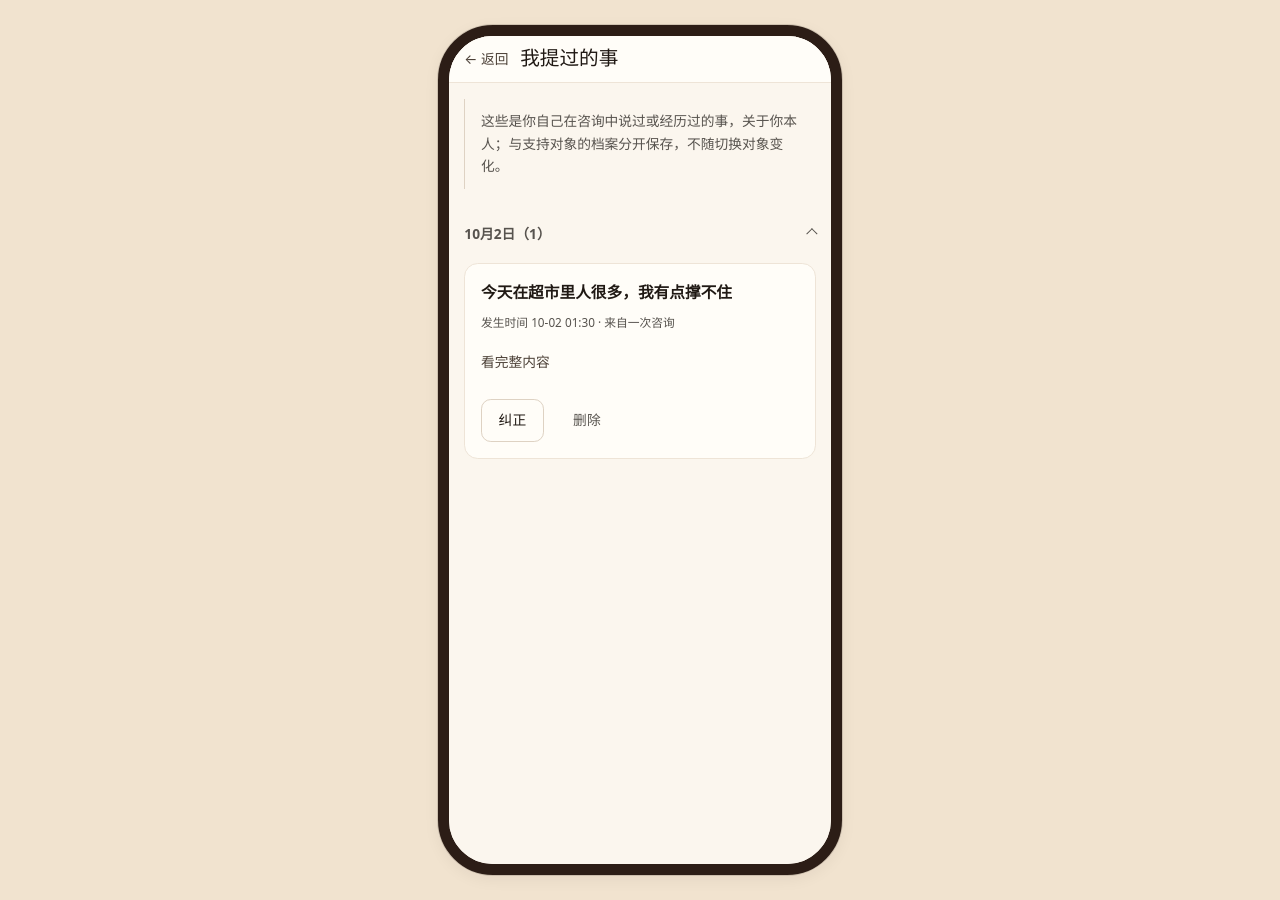
it: 记忆页 · 删除 › P0 取消不调删除端点；确认才调，并立即从列表移除
Expected: the text "今天在超市里人很多，我有点撑不住" is shown, [481, 281, 732, 303]
Click the button "删除": x=587, y=421 [556, 399, 618, 442]
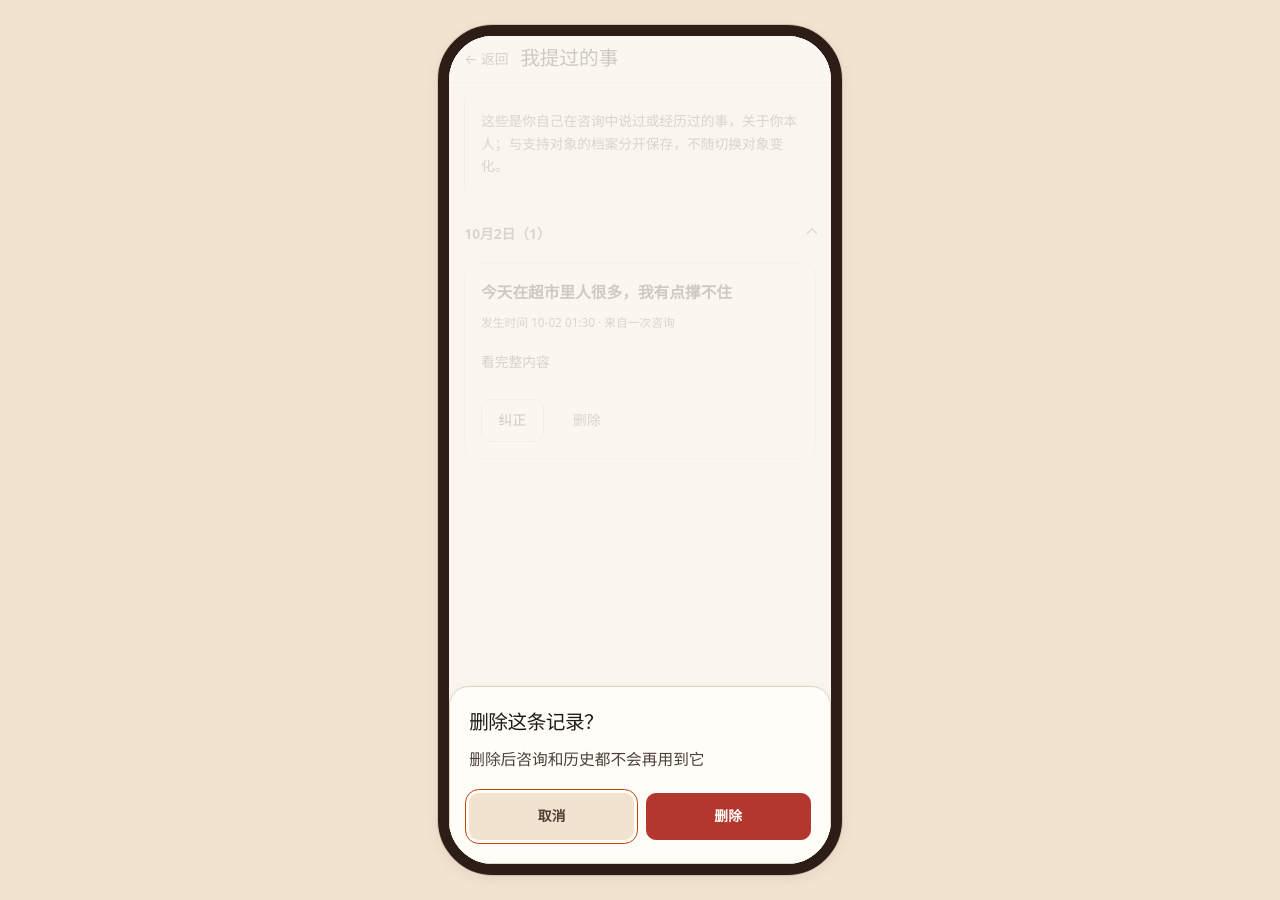
Click the button "取消": x=552, y=816 [469, 792, 634, 840]
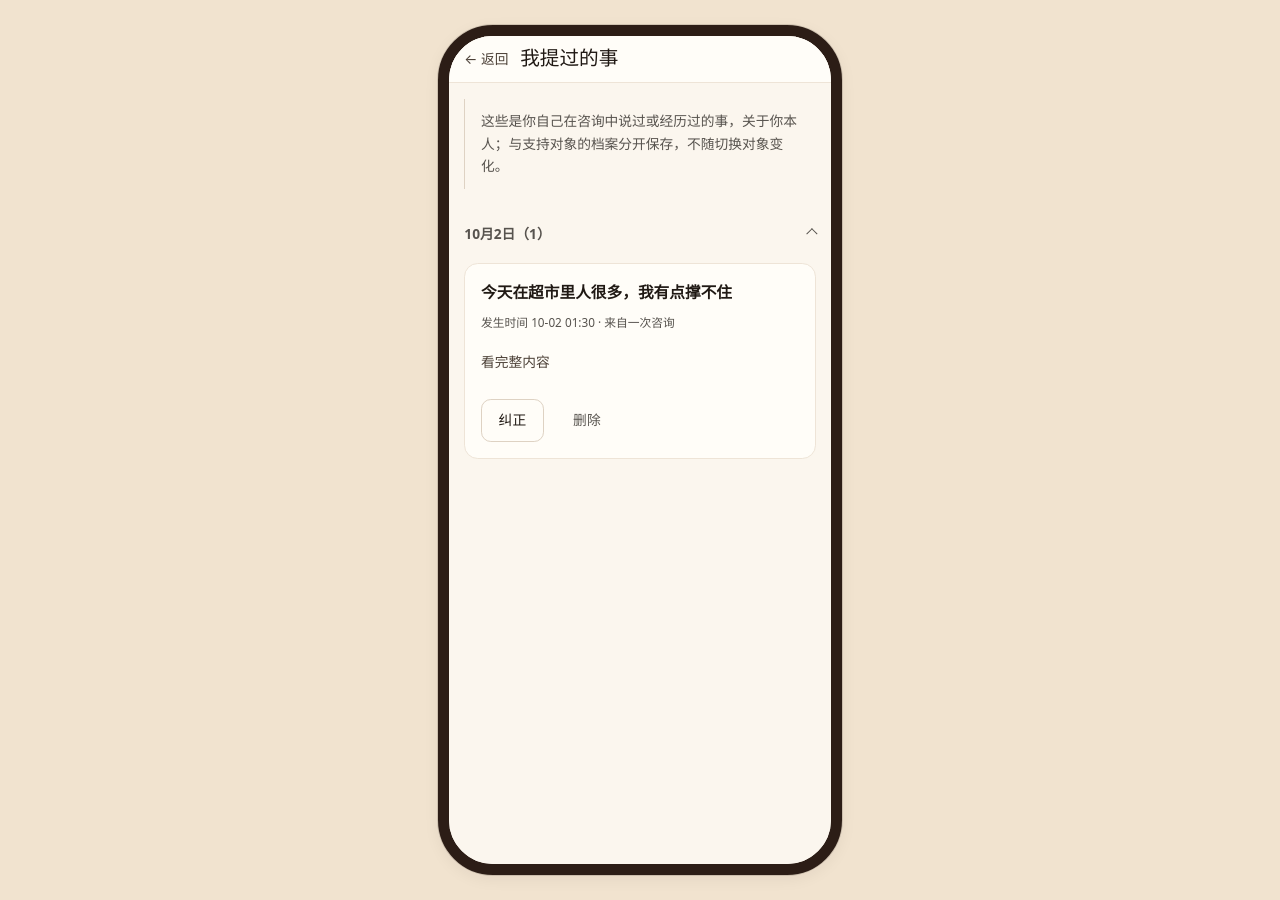
Expected: the dialog is gone
Click the button "删除": x=587, y=421 [556, 399, 618, 442]
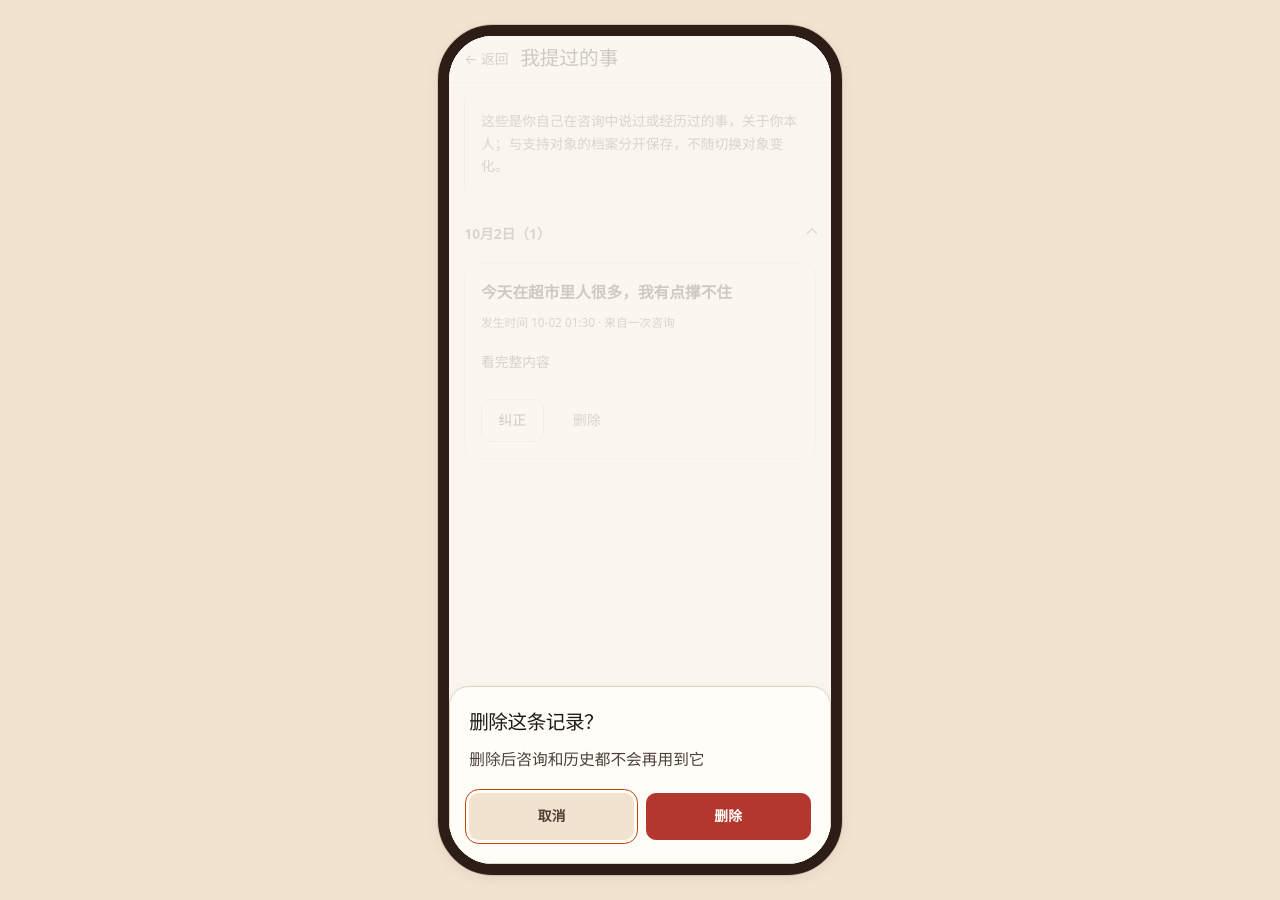
Click the button "删除": x=728, y=816 [646, 792, 811, 840]
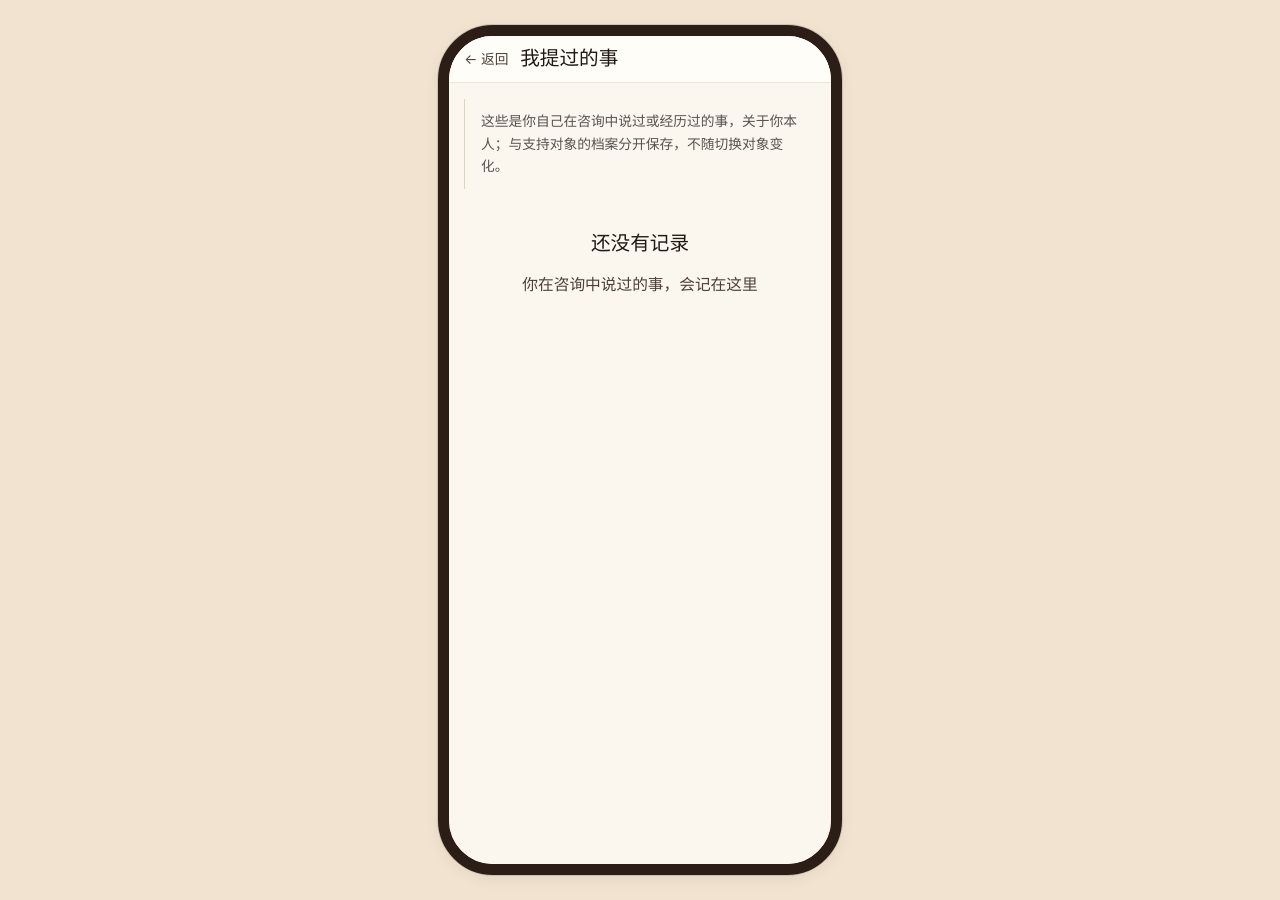
Expected: the text "今天在超市里人很多，我有点撑不住" is gone
